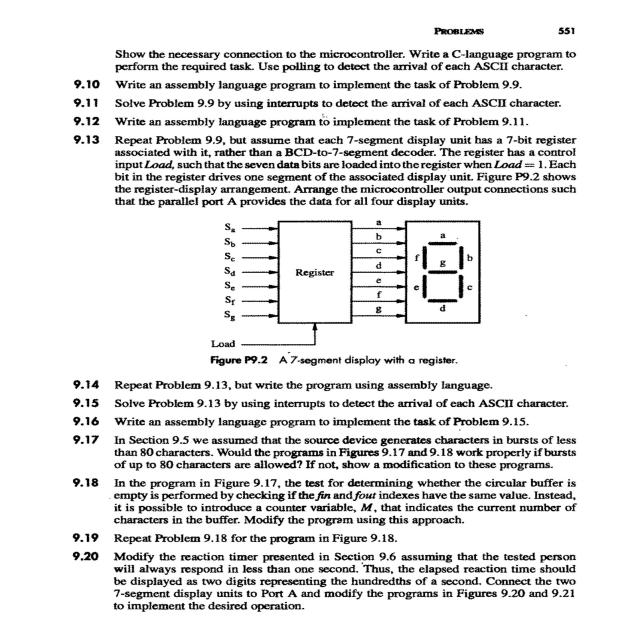diagram: (90, 220, 524, 376)
